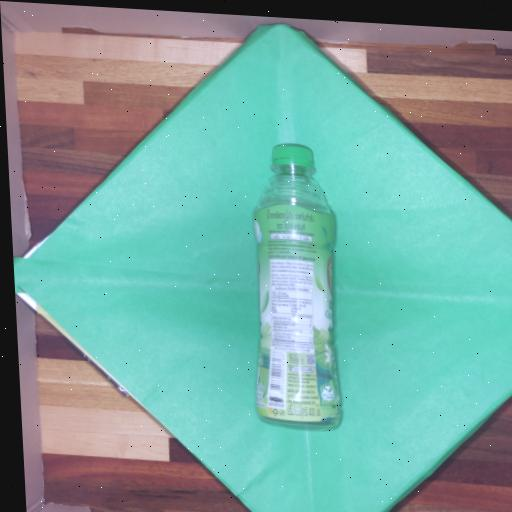bottle: (254, 144, 340, 424)
